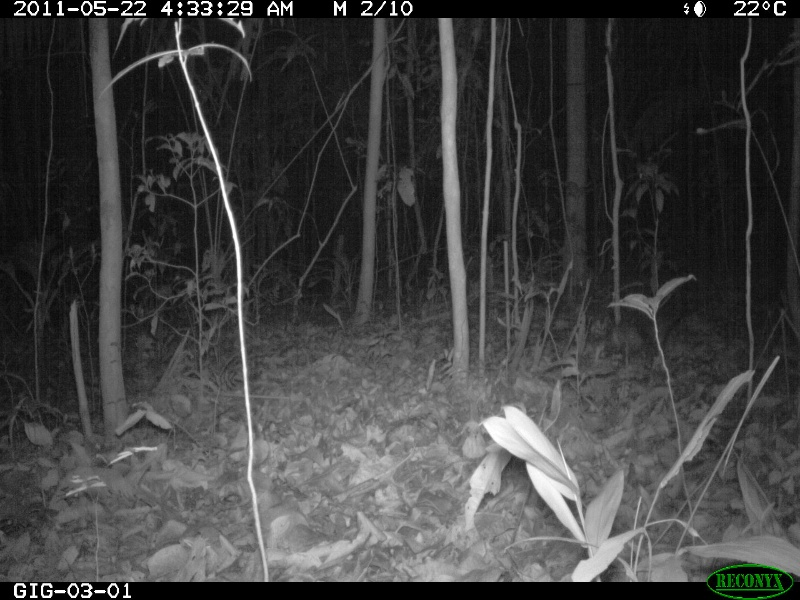opossum: (580, 299, 686, 364)
